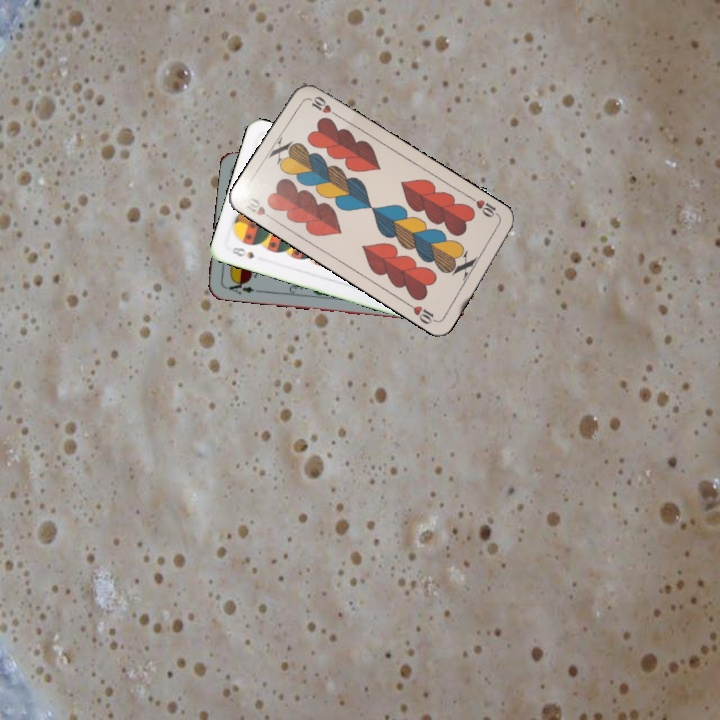EA: (221, 276, 257, 297)
H10: (239, 193, 278, 224), (467, 193, 503, 221)
S8: (227, 243, 257, 261)
